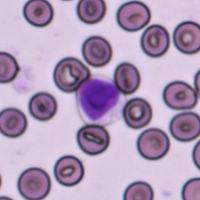L: (76, 75, 125, 126)
